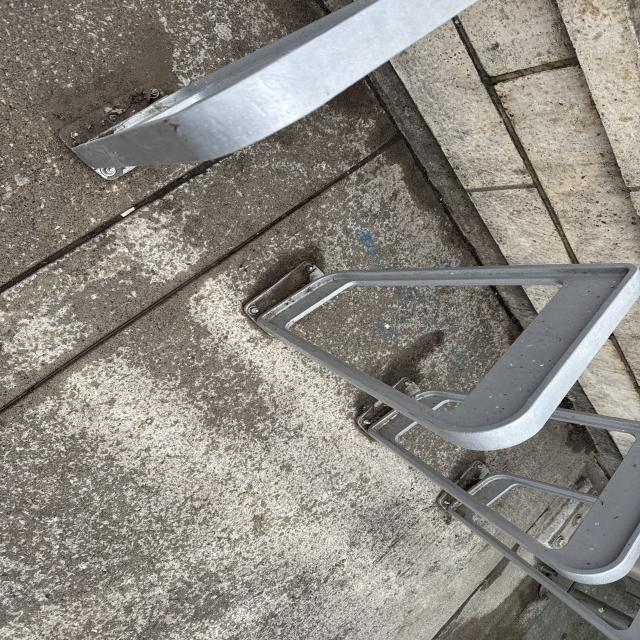Bicycle Rack: (243, 261, 637, 452), (64, 0, 479, 181), (354, 380, 638, 580), (452, 461, 634, 638)
